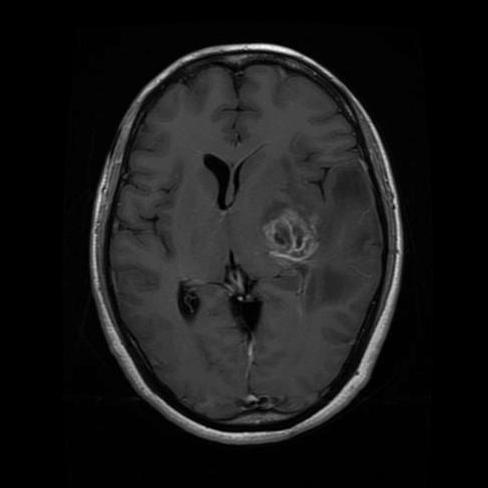Tumour-Glioma: (258, 201, 337, 283)
